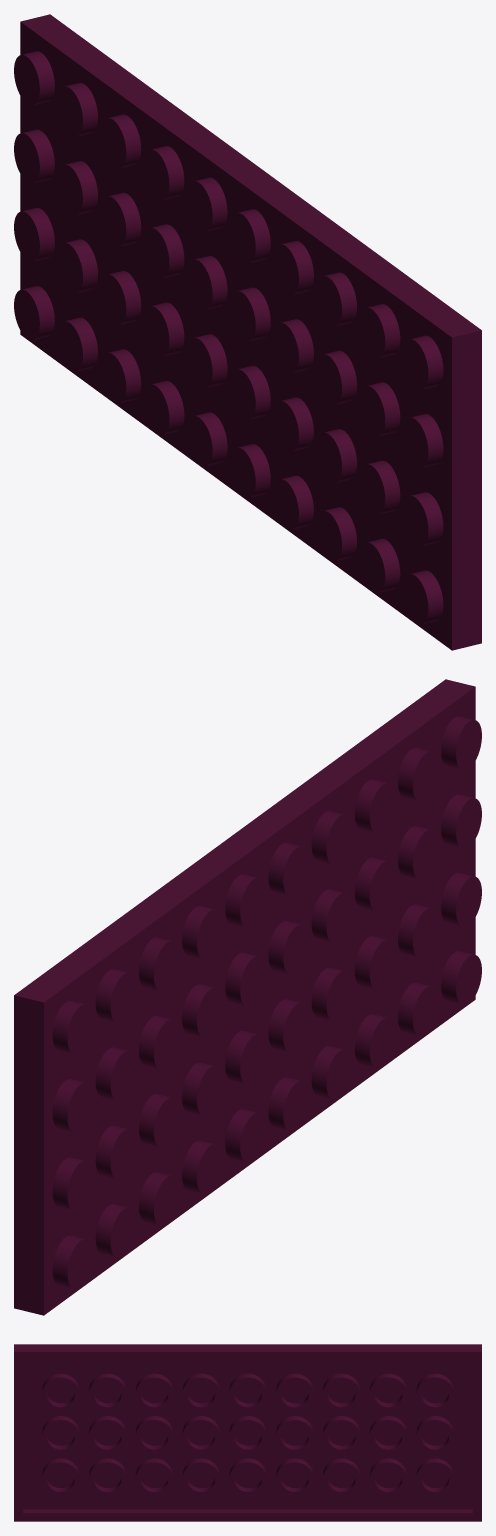
Rendered from plate4*10_magenta.obj.
The picture shows the model from 3 angles, top to bottom: view 1: azimuth 30°, elevation 25°; view 2: azimuth 150°, elevation 25°; view 3: azimuth 270°, elevation 25°; orthographic projection. The views are drawn at different scales.
Size of the model in its own units: 12 by 80 by 200.
